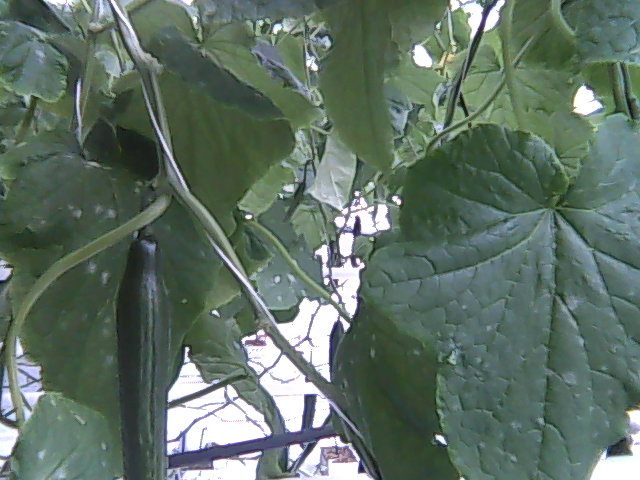concombre: (112, 229, 173, 480)
